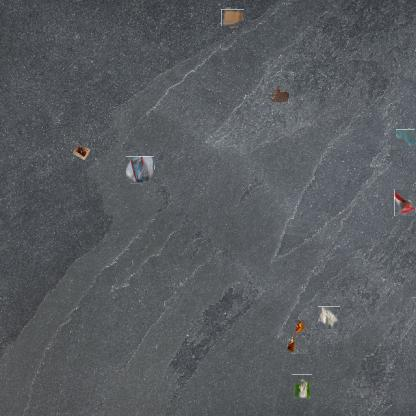dirty: (126, 156, 154, 183), (288, 320, 310, 354), (394, 190, 415, 216), (318, 306, 340, 329), (292, 374, 312, 399), (69, 140, 91, 162), (222, 7, 242, 28)
liquid: (268, 84, 290, 104), (397, 129, 416, 147)
